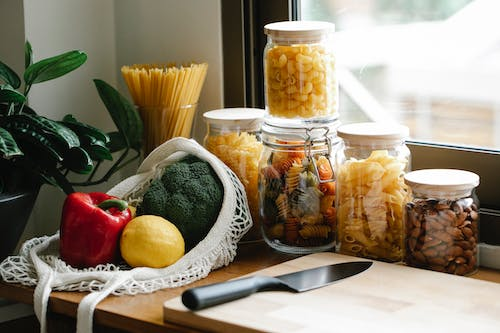knife: (180, 259, 374, 311)
